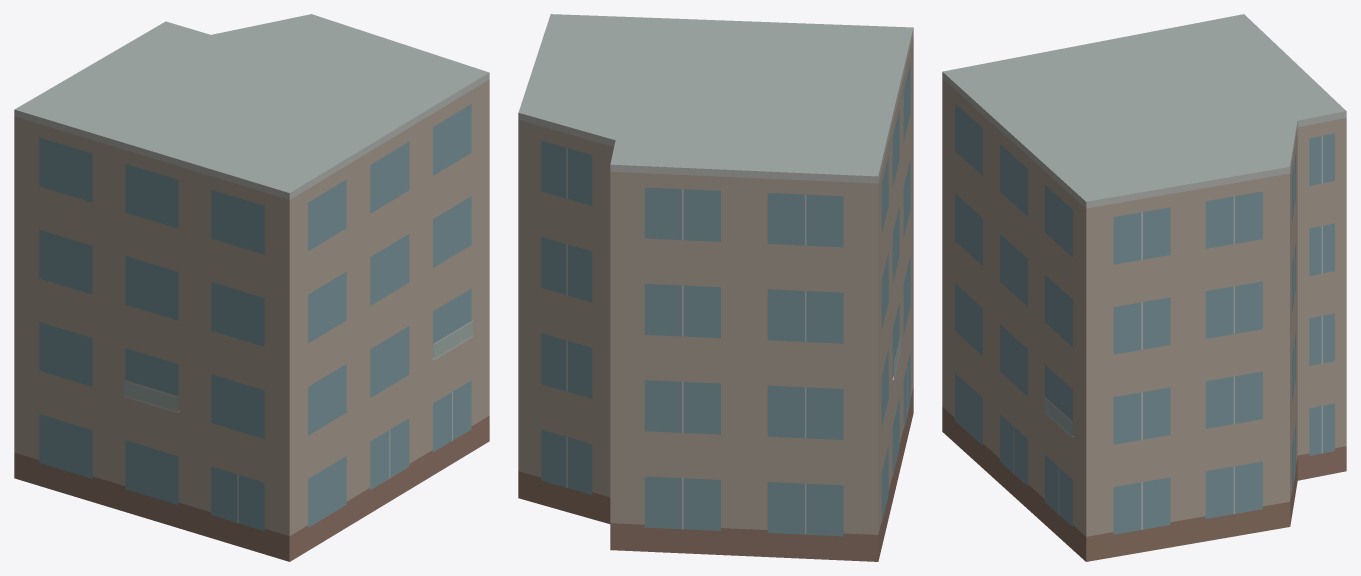
File: survey-upis-32679464.glb
The picture shows the model from 3 angles, left to right: view 1: azimuth 30°, elevation 25°; view 2: azimuth 150°, elevation 25°; view 3: azimuth 270°, elevation 25°; orthographic projection. The views are drawn at different scales.
Visible parts, largest first — view 1: survey-upis-32679464.tmp; view 2: survey-upis-32679464.tmp; view 3: survey-upis-32679464.tmp.
Part boxes in pixels (bbox=[...]): survey-upis-32679464.tmp: bbox=[14, 14, 489, 561]; survey-upis-32679464.tmp: bbox=[518, 14, 913, 561]; survey-upis-32679464.tmp: bbox=[942, 14, 1346, 561].
Bounding box in the file's own units: 14.84 × 13.25 × 13.5.
